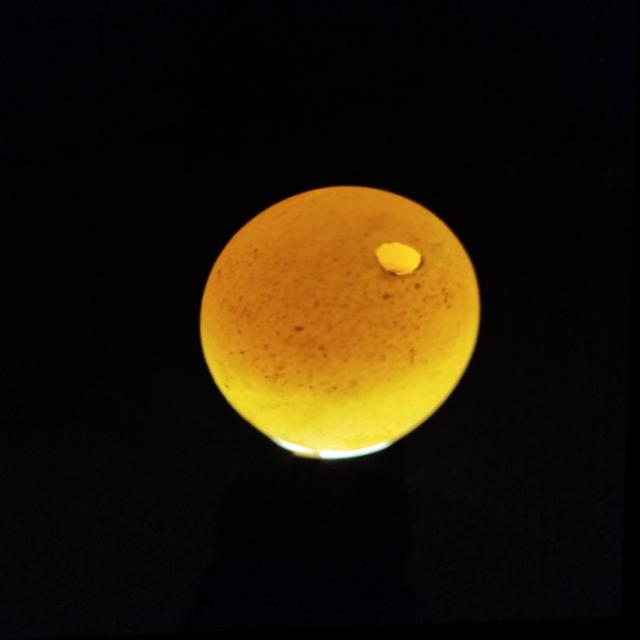Rachadura: (378, 245, 423, 279)
